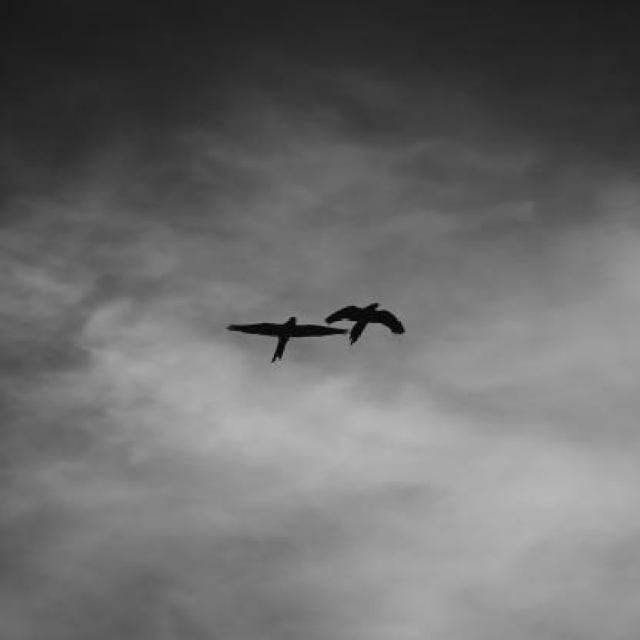bird: (226, 318, 352, 362), (323, 303, 405, 346)
